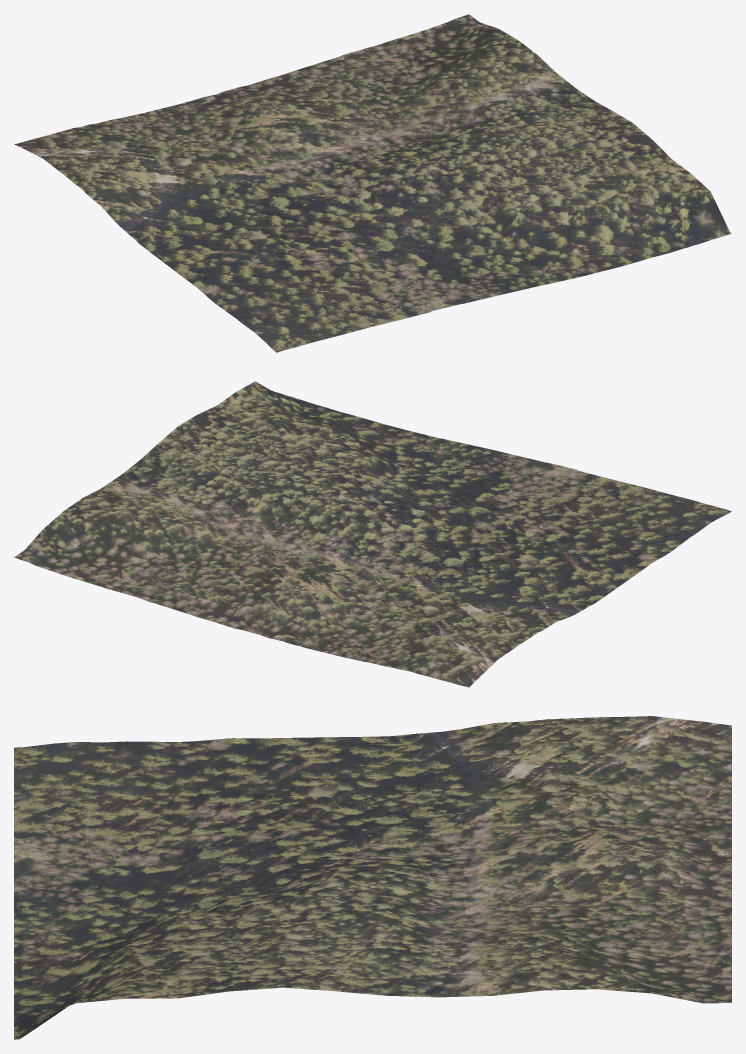
File: CM_Terrain_24489844_6822456.fbx
The picture shows the model from 3 angles, top to bottom: view 1: azimuth 30°, elevation 25°; view 2: azimuth 150°, elevation 25°; view 3: azimuth 270°, elevation 25°; orthographic projection. The views are drawn at different scales.
Parts seen in each view (by area): view 1: CM_Terrain_24489844_6822456_LOD0; view 2: CM_Terrain_24489844_6822456_LOD0; view 3: CM_Terrain_24489844_6822456_LOD0.
Boxes of the visible parts, <box> form: CM_Terrain_24489844_6822456_LOD0: <box>14,14,731,352</box>; CM_Terrain_24489844_6822456_LOD0: <box>14,381,731,687</box>; CM_Terrain_24489844_6822456_LOD0: <box>14,716,731,1039</box>.
Size of what is drawn, in the model's own units: 205 by 19.9 by 205.
